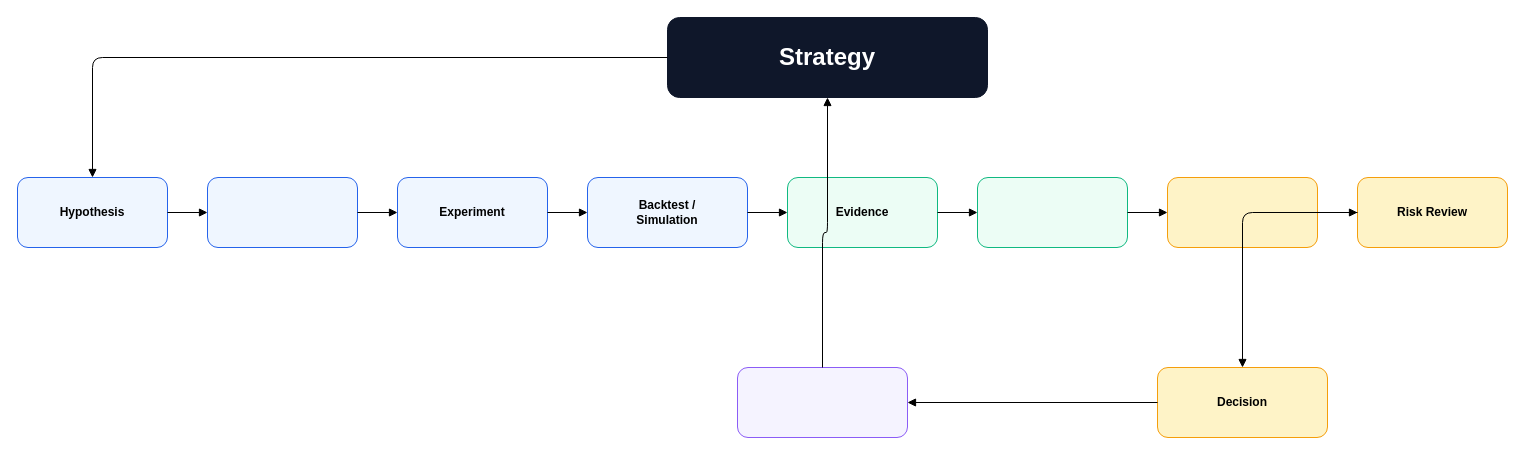
This 1525x455 diagram has some shape labels left out. The shapes that lost their labels are listed below. From the top down, each one's box as (x1, y1, x2, y2) in pixels, then its label:
(206, 176, 358, 248): Research
(976, 176, 1128, 248): Validation
(1166, 176, 1318, 248): AI Review
(736, 366, 908, 438): Monitoring
